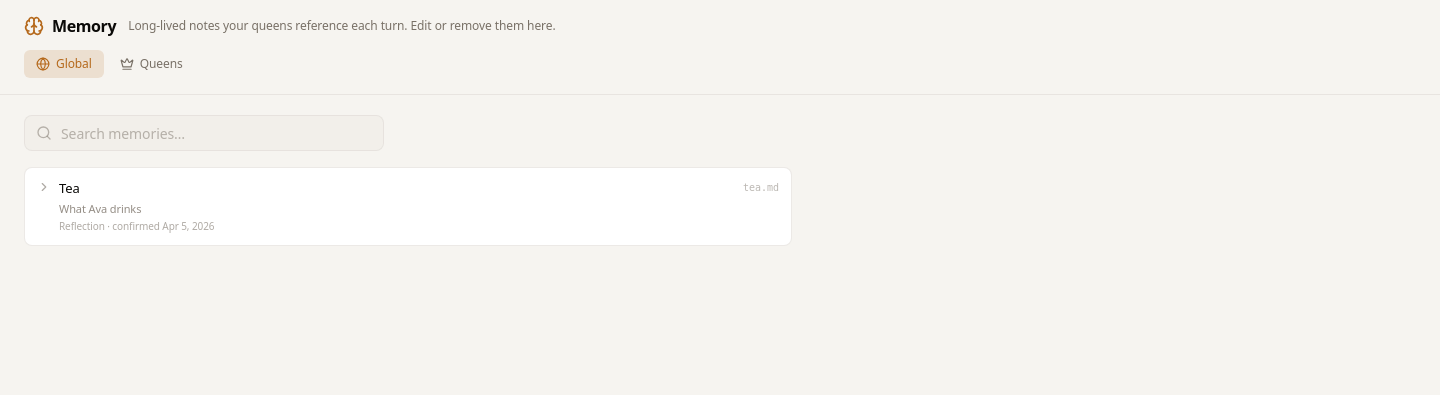
Test: MemoryLibrary › says a deleted memory can be restored
The image size is (1440, 395).
Step 1. Click the text "Tea" → x=69, y=188, box [59, 179, 80, 197]
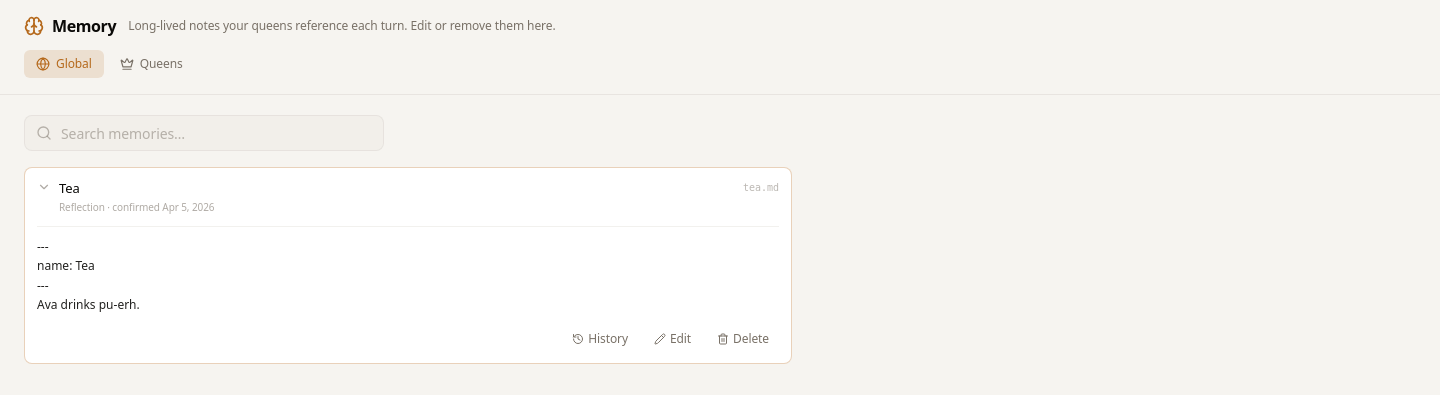
Step 2. Click the button "Delete" → x=743, y=339, box [707, 327, 779, 351]
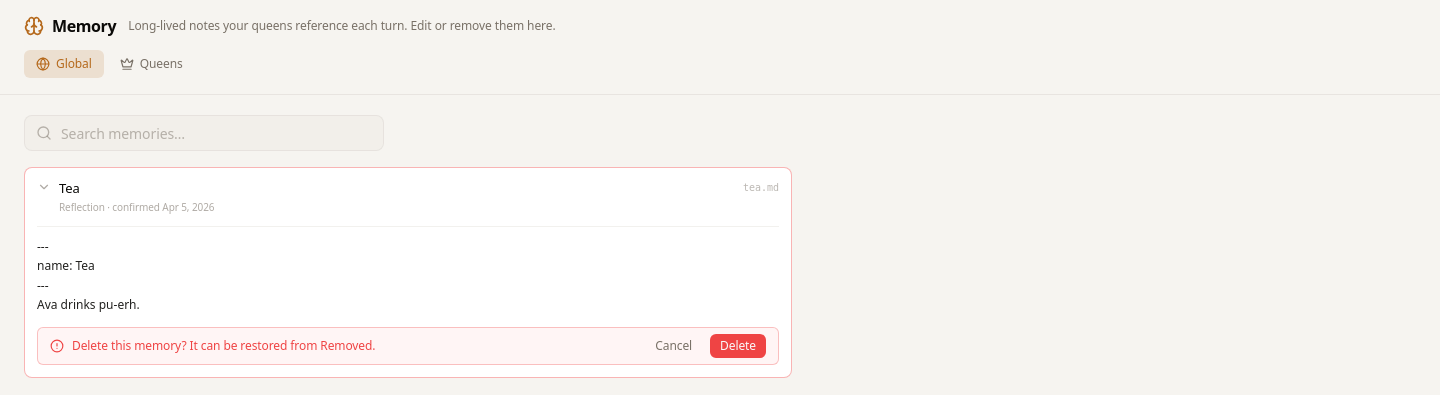
Expected: the text "Delete this memory? It can be restored from Removed." is shown, [72, 337, 376, 354]
